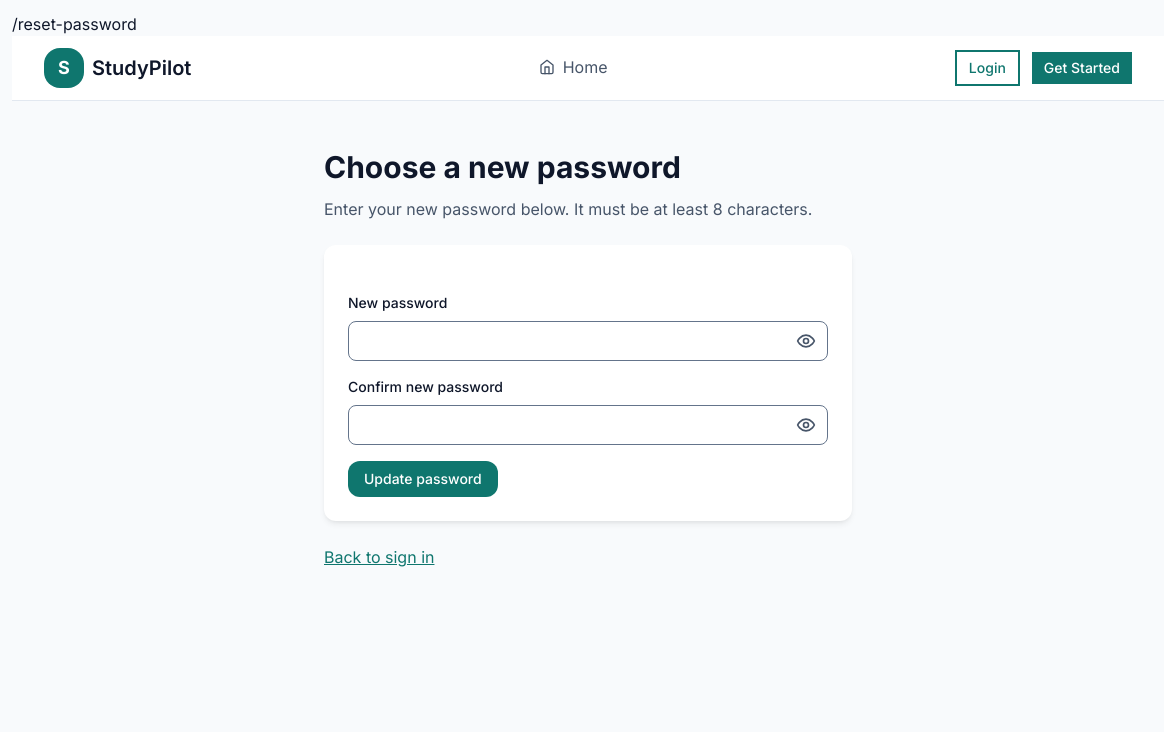
Test: ResetPasswordPage › submits { token, password, confirmPassword } and hands off to /login
This screenshot has width=1164, height=732.
Type "NewPassword1!" into the password field labelled "New password" at (588,341), box left=348, top=321, right=828, bottom=361
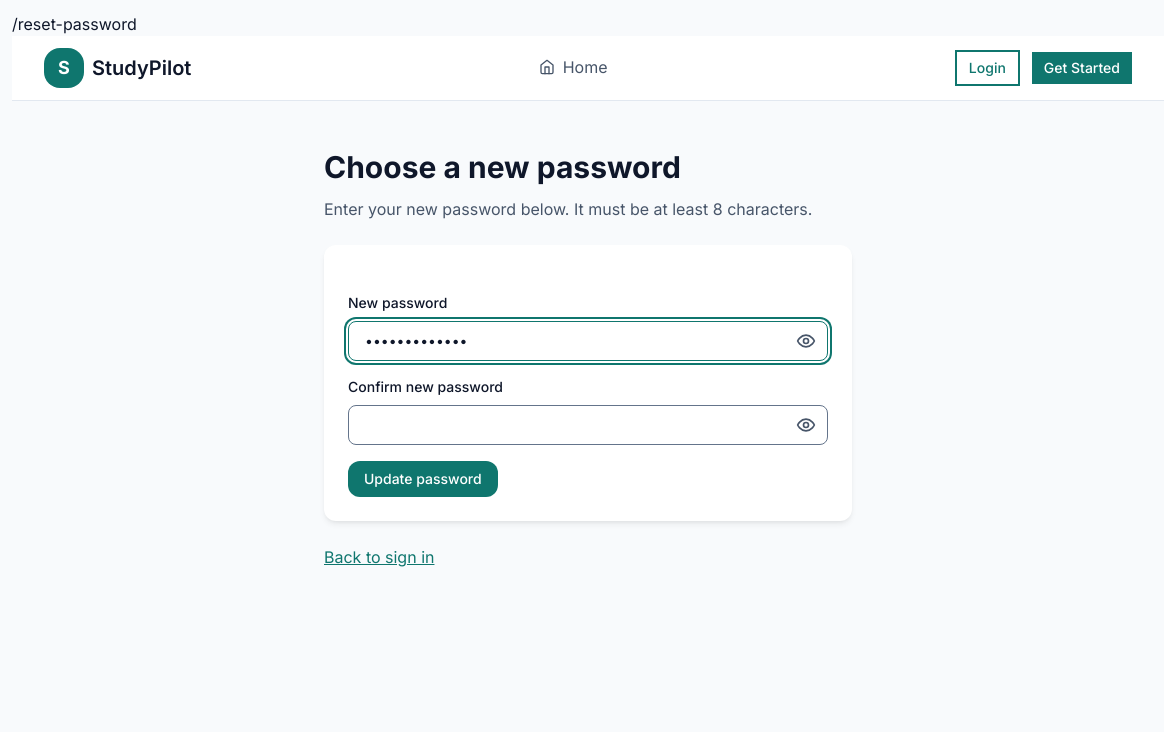
Type "NewPassword1!" into the password field labelled "Confirm new password" at (588,425), box left=348, top=405, right=828, bottom=445
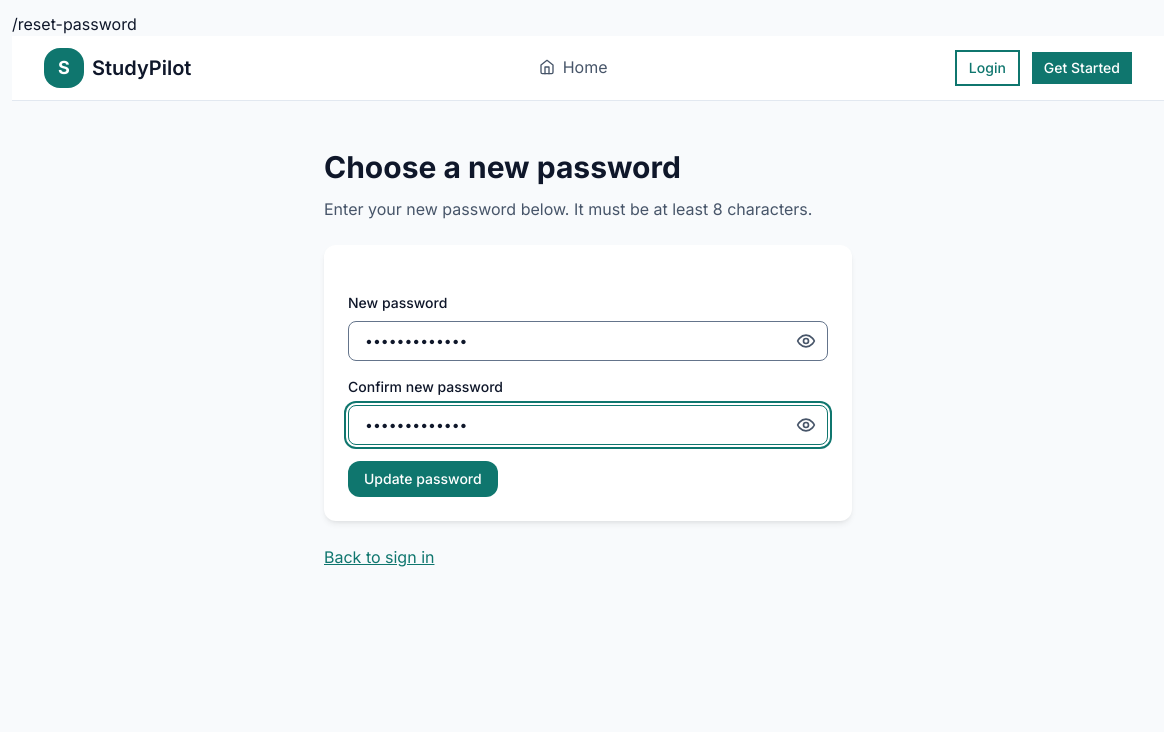
Click the button "Update password" at (423,479), box left=348, top=461, right=498, bottom=497
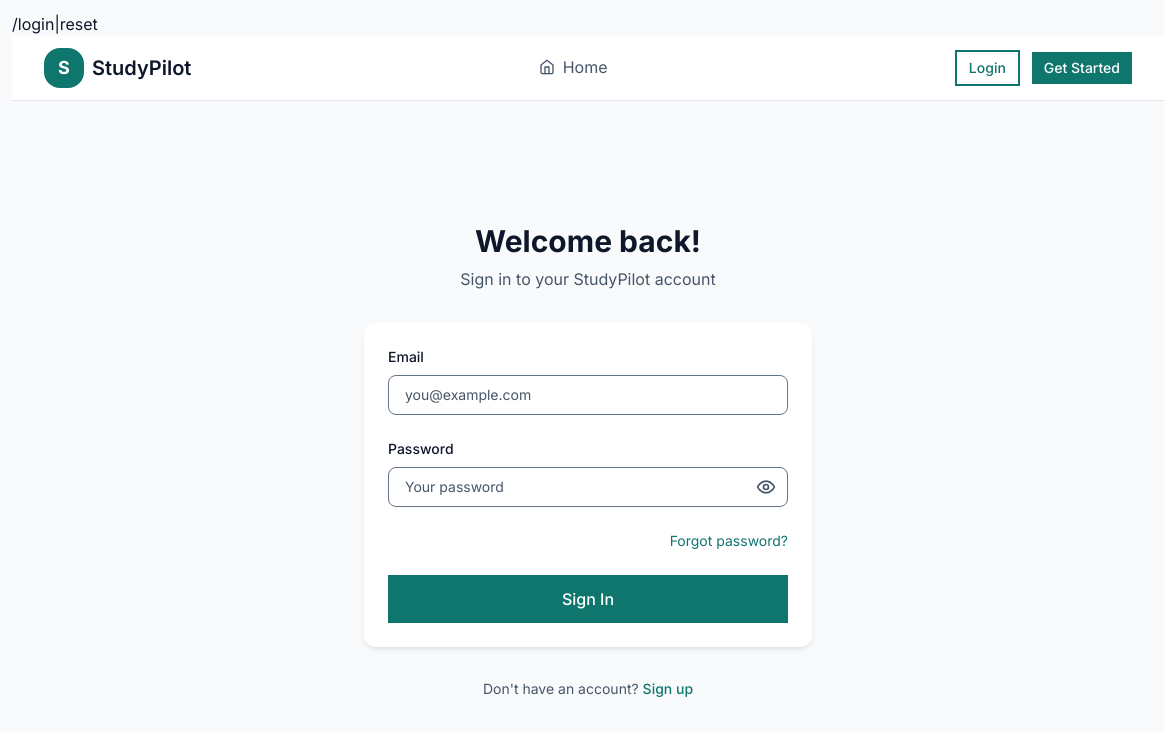
Result: the text with test id "location" shows "/login" at left=12, top=14, right=54, bottom=34
